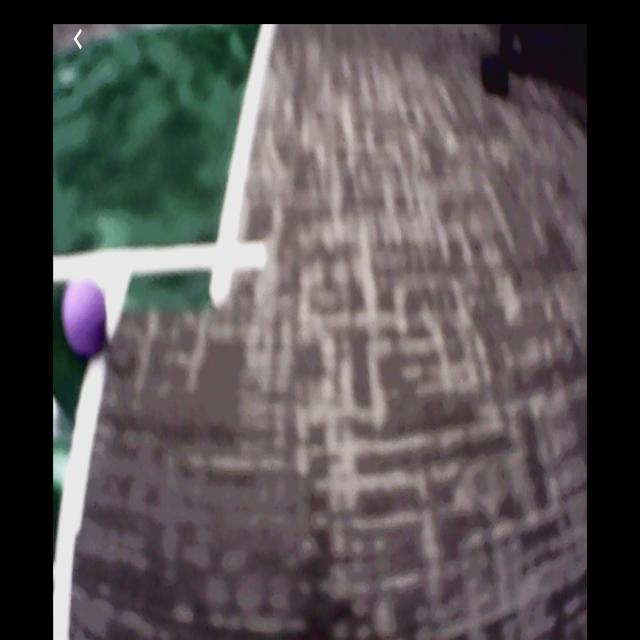ball: (63, 281, 108, 359)
